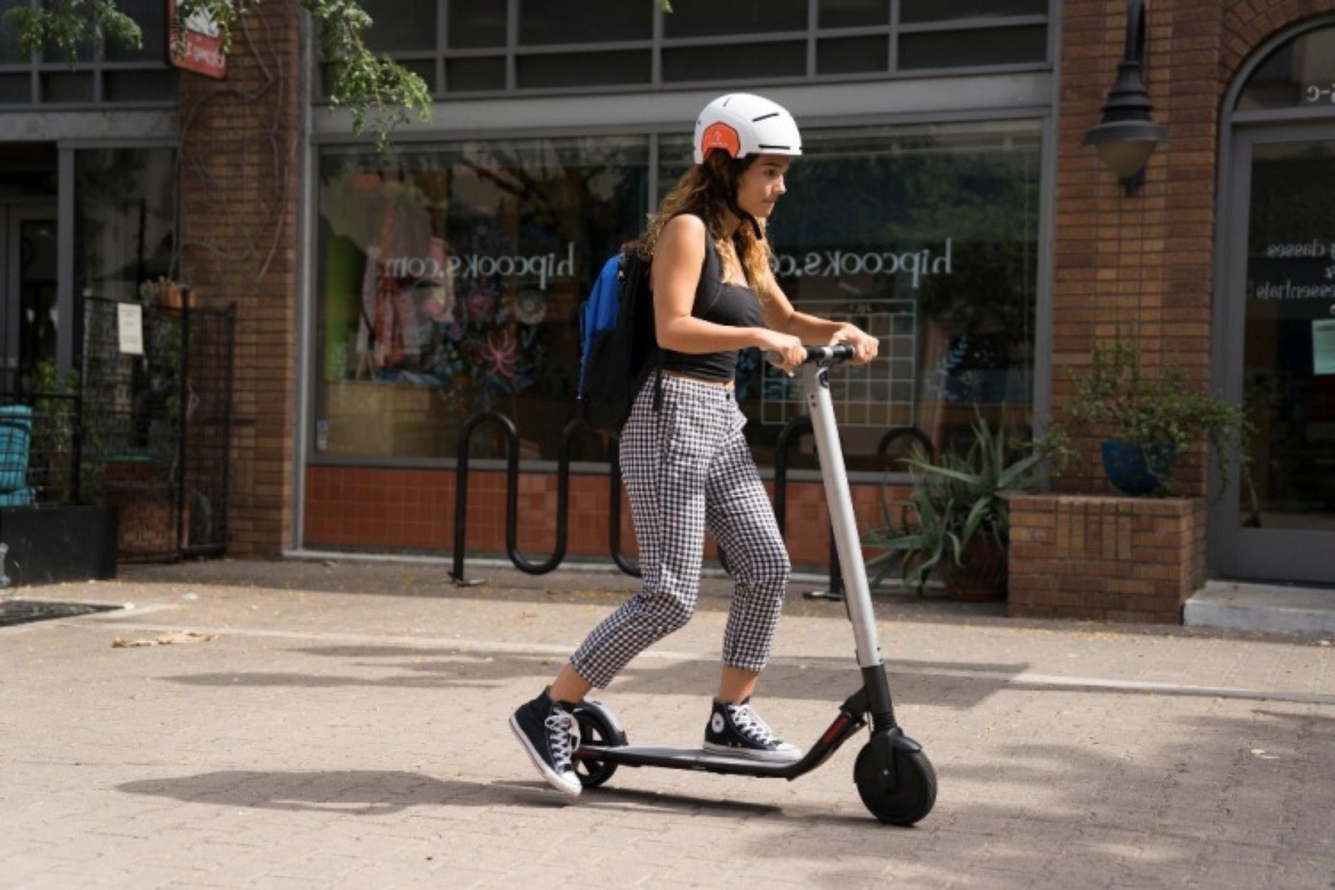helmet: (675, 90, 802, 223)
human: (520, 97, 823, 801)
kickboard: (564, 710, 932, 829)
